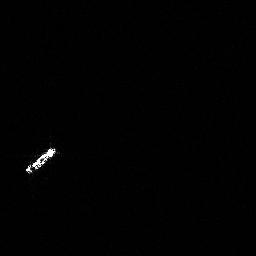ship: (23, 143, 58, 176)
